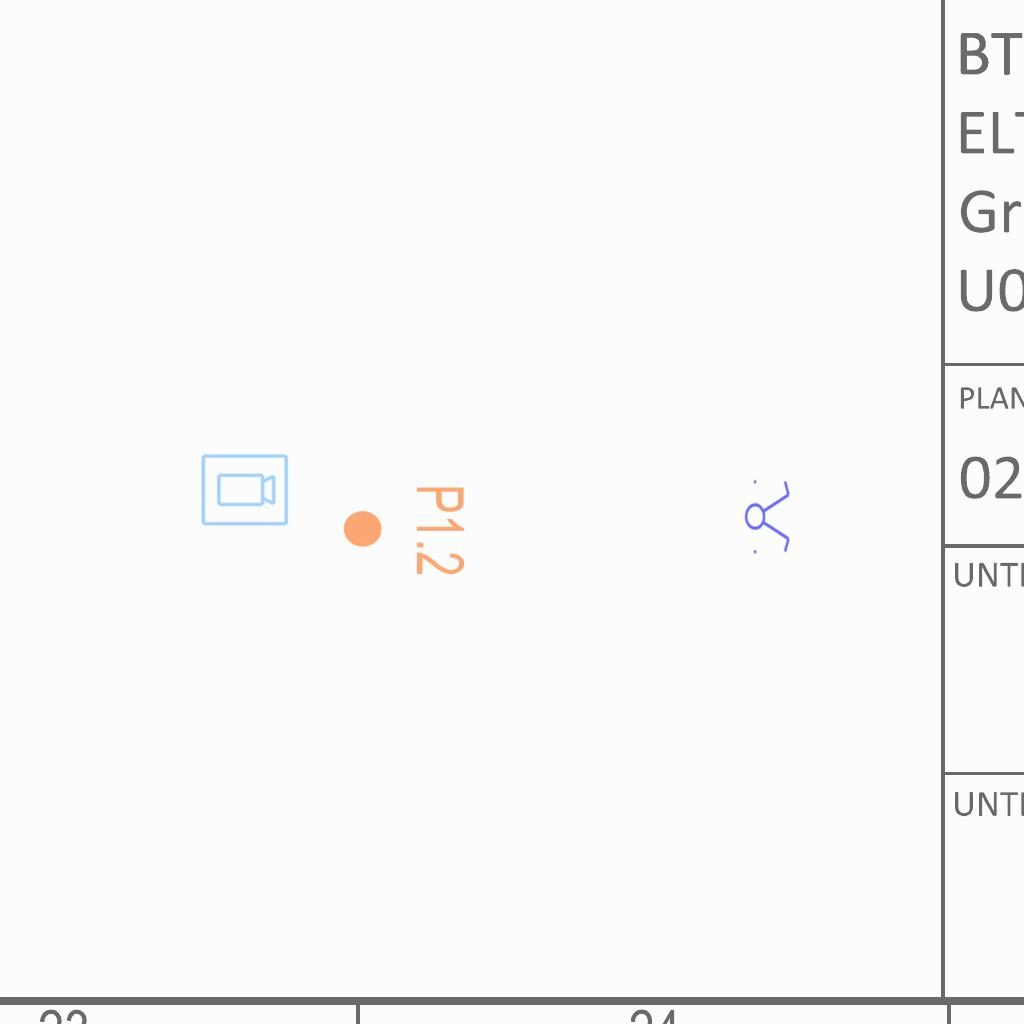Downlight_LED_Einbauleuchten_Flur: (340, 484, 468, 577)
KFO_Kamera_mit_Festobjektiv: (199, 452, 290, 529)
Serienschalter: (744, 474, 792, 558)
